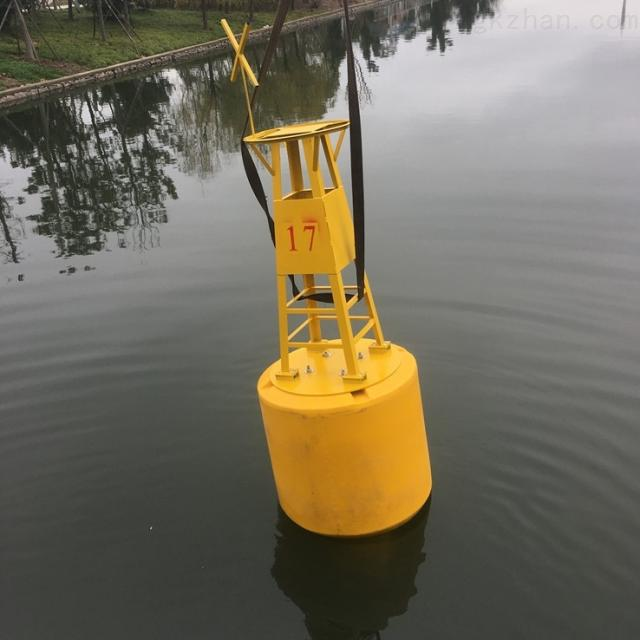buoy: (216, 14, 436, 538)
